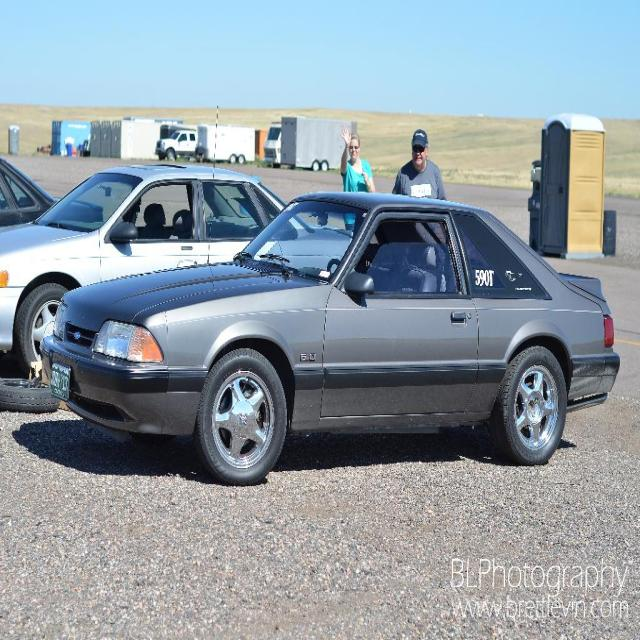car: (40, 106, 619, 486)
